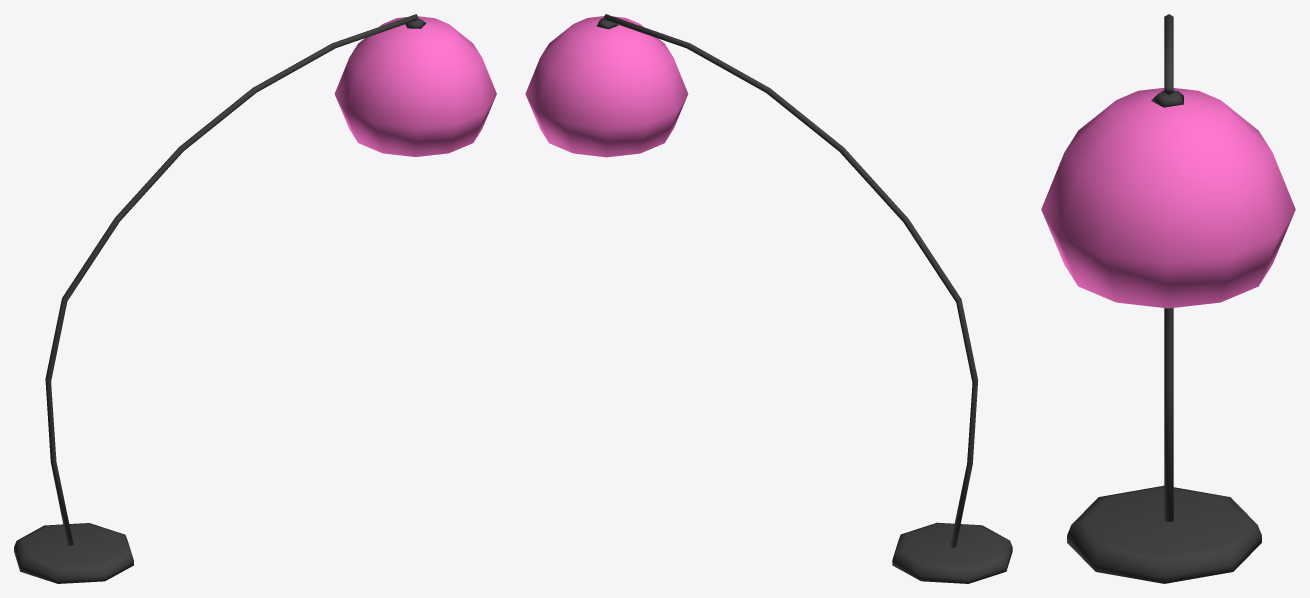
The model's file is Arc_Lamp_F.FBX.
3 views of the same model, side by side, from view 1: azimuth 30°, elevation 25°; view 2: azimuth 150°, elevation 25°; view 3: azimuth 270°, elevation 25° (orthographic). The views are drawn at different scales.
Parts seen in each view (by area): view 1: Arc_Lamp; view 2: Arc_Lamp; view 3: Arc_Lamp.
Part boxes in pixels (x1,y1,x2,y2): Arc_Lamp: (14, 14, 496, 583); Arc_Lamp: (525, 14, 1012, 583); Arc_Lamp: (1041, 14, 1295, 583).
Size of the model in its own units: 316 by 297 by 95.22.
